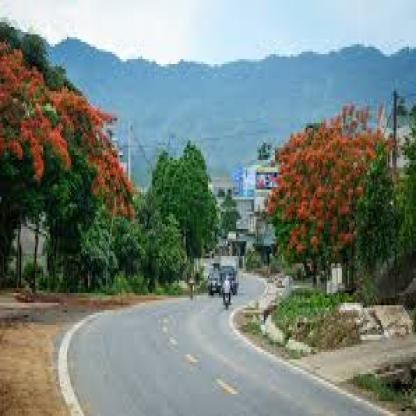car: (209, 254, 245, 299)
